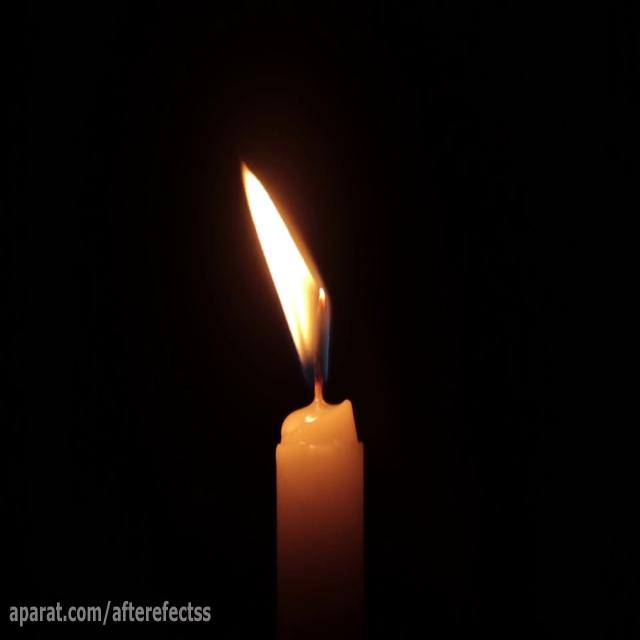fire: (237, 163, 333, 379)
